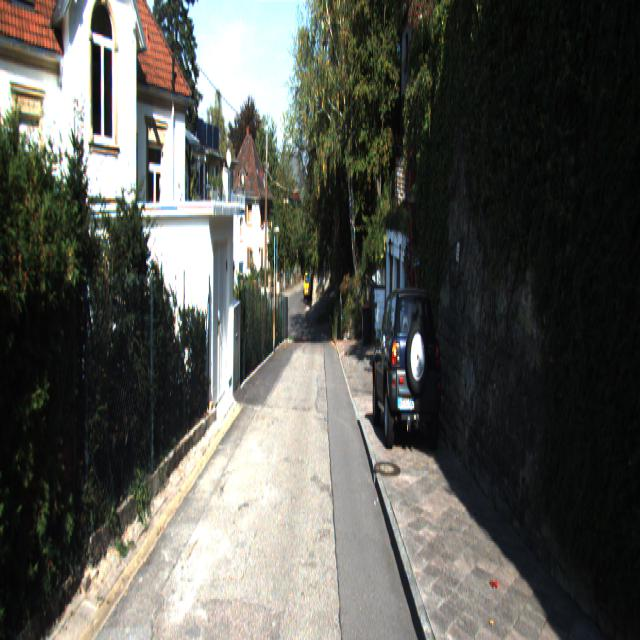Car: (372, 284, 444, 458)
